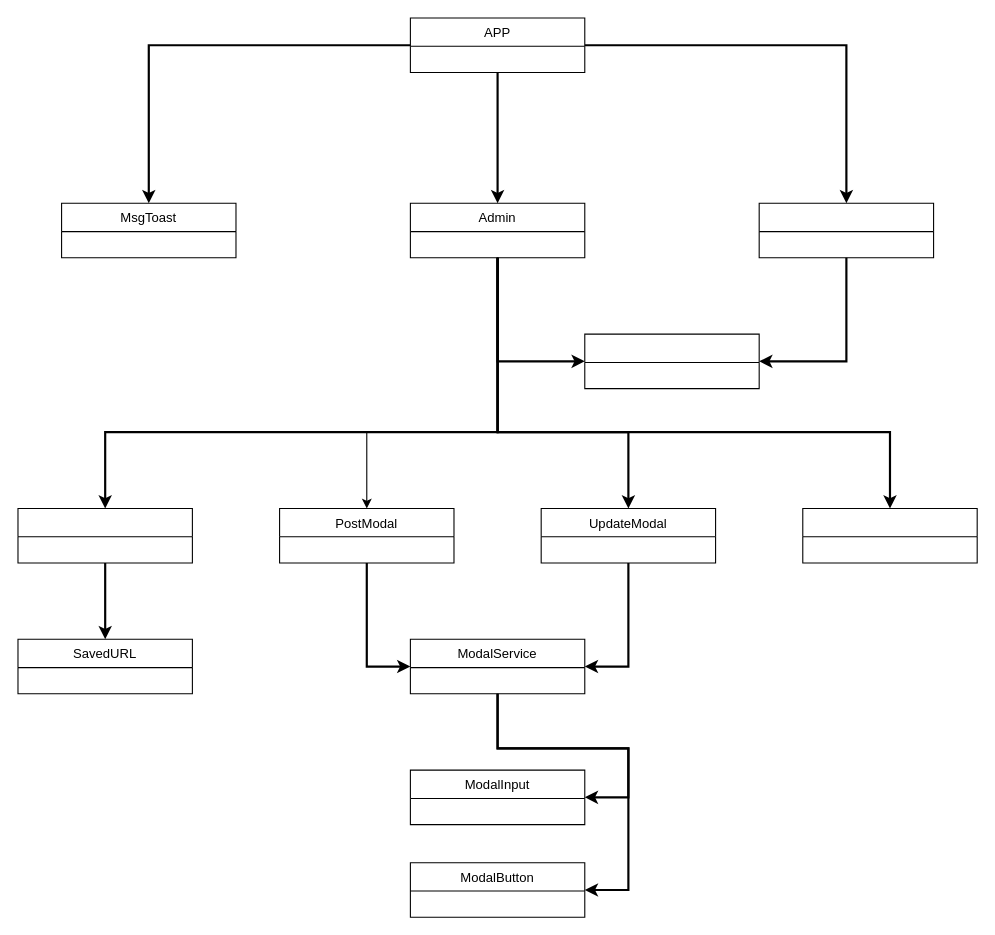
Some shapes in this 995 by 935 pixel diagram are drawn without their labels. The shapes that lost their labels are listed below. From the top down, each one's centre as x and y in pixels, then its label:
(x=846, y=230): Redirect
(x=671, y=361): Loader
(x=104, y=535): SavedURLs
(x=889, y=535): PostBtn
